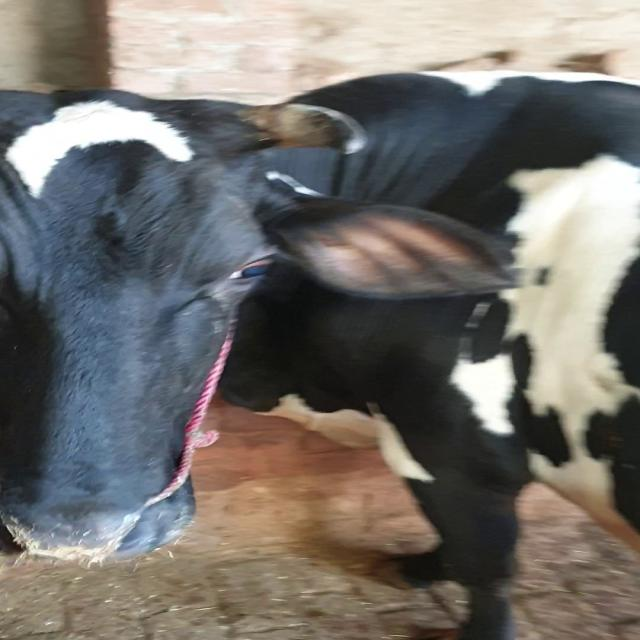cowFace: (0, 104, 375, 569)
